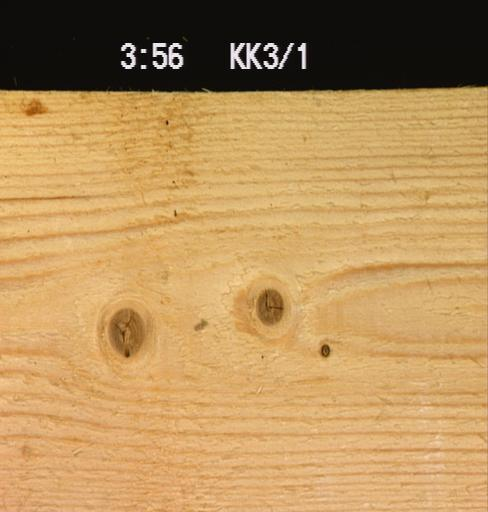dry_knot: (318, 342, 331, 357)
sound_knot: (104, 305, 147, 358), (253, 285, 284, 325)
